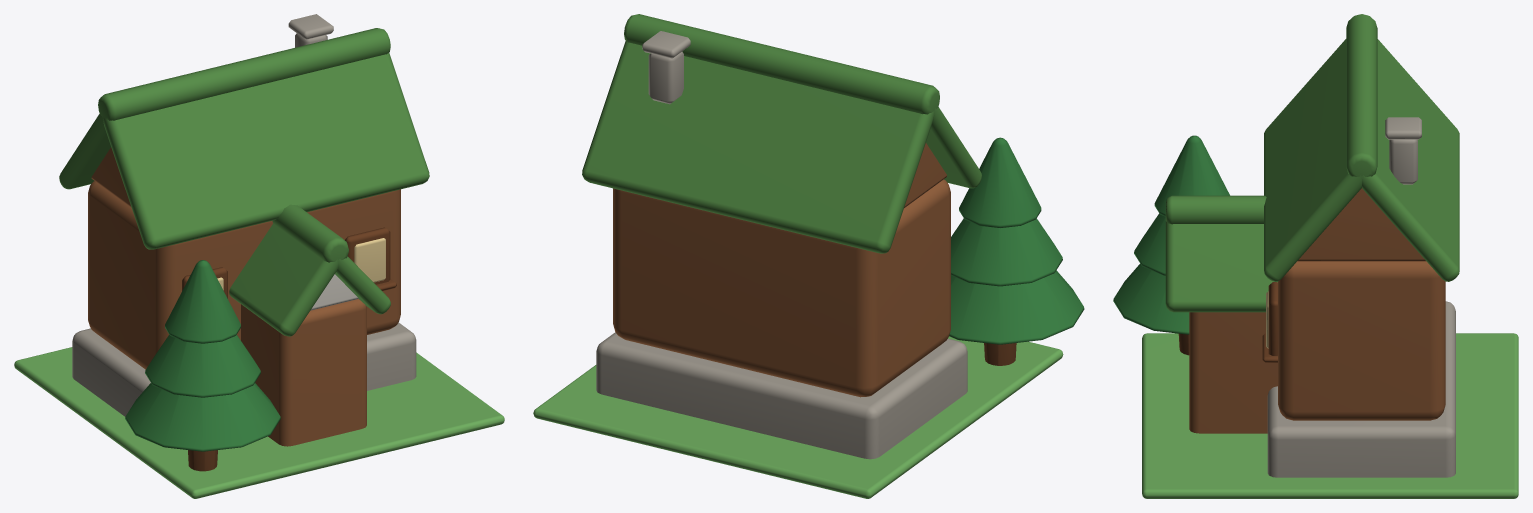
3 views of the same model, side by side, from view 1: azimuth 30°, elevation 25°; view 2: azimuth 150°, elevation 25°; view 3: azimuth 270°, elevation 25° (orthographic). The views are drawn at different scales.
Visible parts, largest first — view 1: Cube; view 2: Cube; view 3: Cube.
Part boxes in pixels (x1=…): Cube: x1=14, y1=14, x2=504, y2=498; Cube: x1=533, y1=14, x2=1084, y2=498; Cube: x1=1113, y1=14, x2=1518, y2=498.
Size of the model in its own units: 0.7954 by 0.72 by 0.7754.
